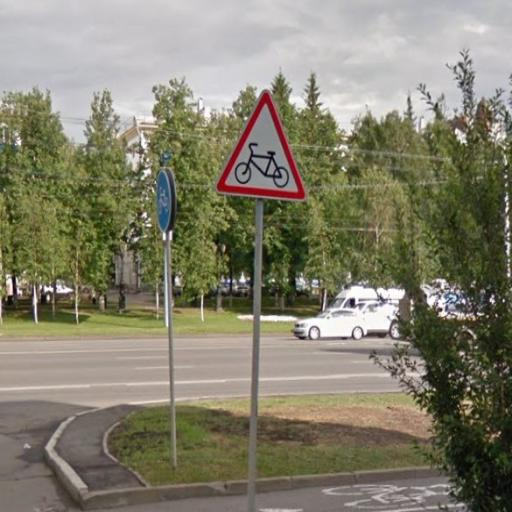traffic_sign: (216, 89, 309, 206), (156, 169, 174, 236)
